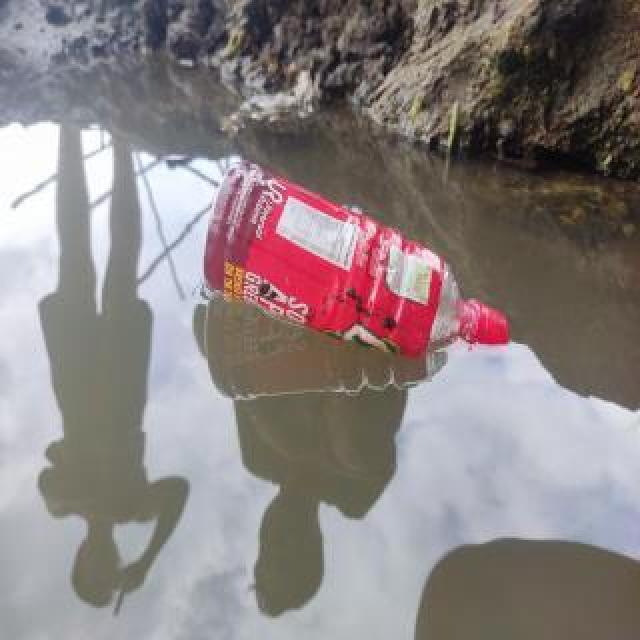bottle: (198, 150, 514, 358)
